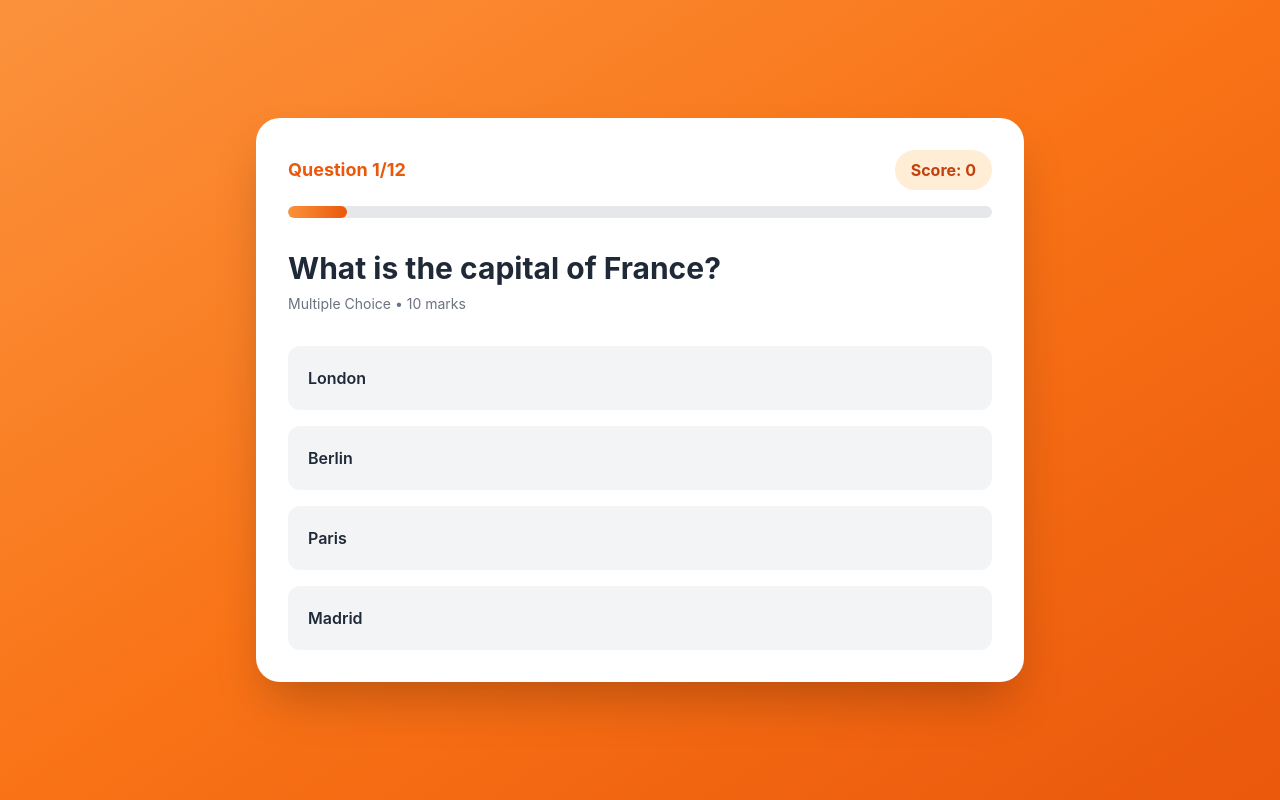
QuizPlatform Component › handles correct answer selection
This screenshot has width=1280, height=800.
Click the button "Paris".
click(327, 538)  # box [288, 506, 992, 570]
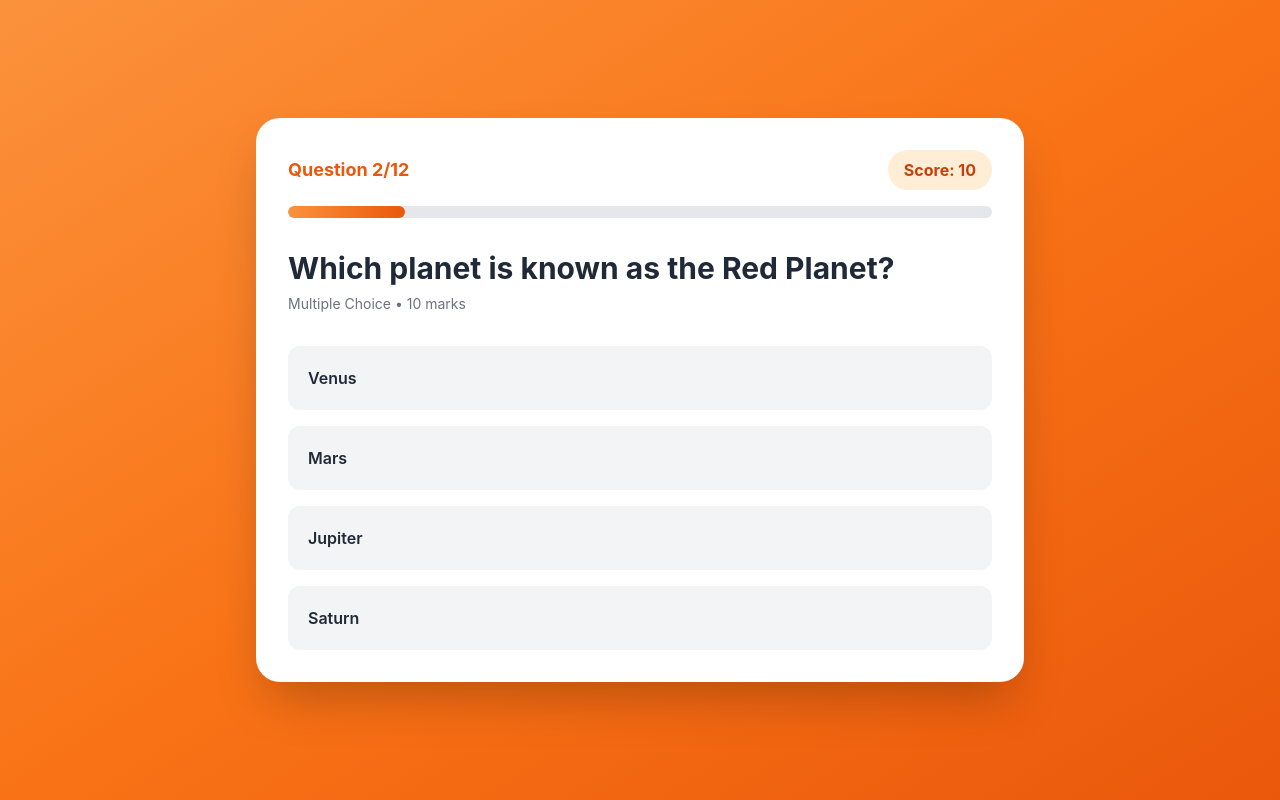
Now the text "Score: 10" is shown, box [888, 150, 992, 190]
Now the heading "Which planet is known as the Red Planet?" is shown, box [288, 250, 992, 286]
